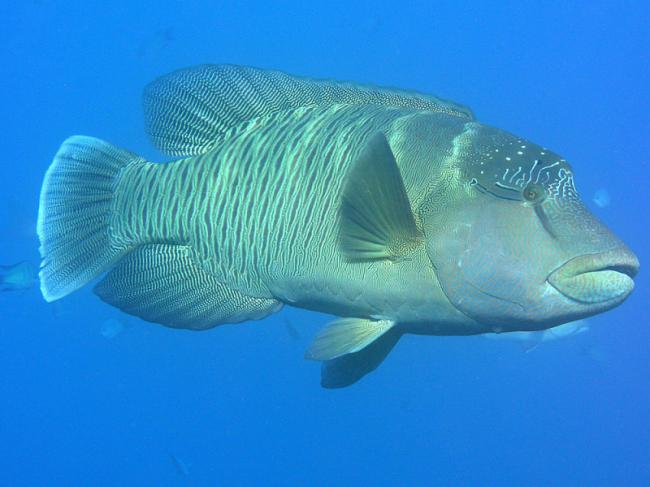fish: (37, 63, 638, 362)
